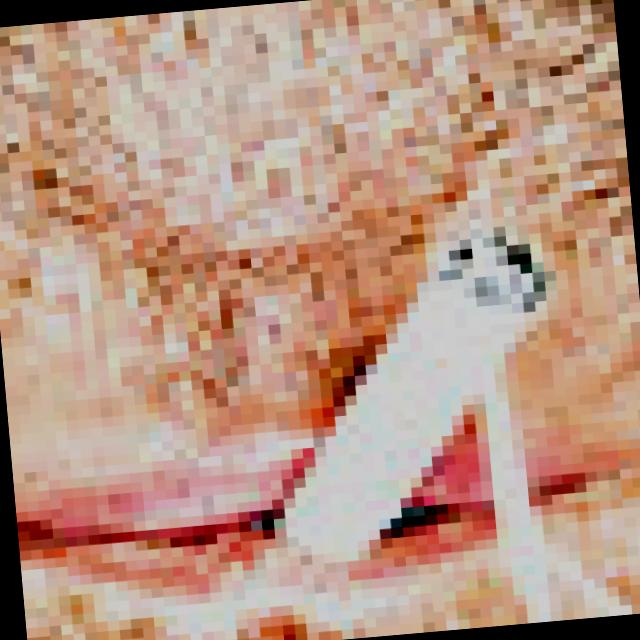smoke: (225, 158, 596, 612)
